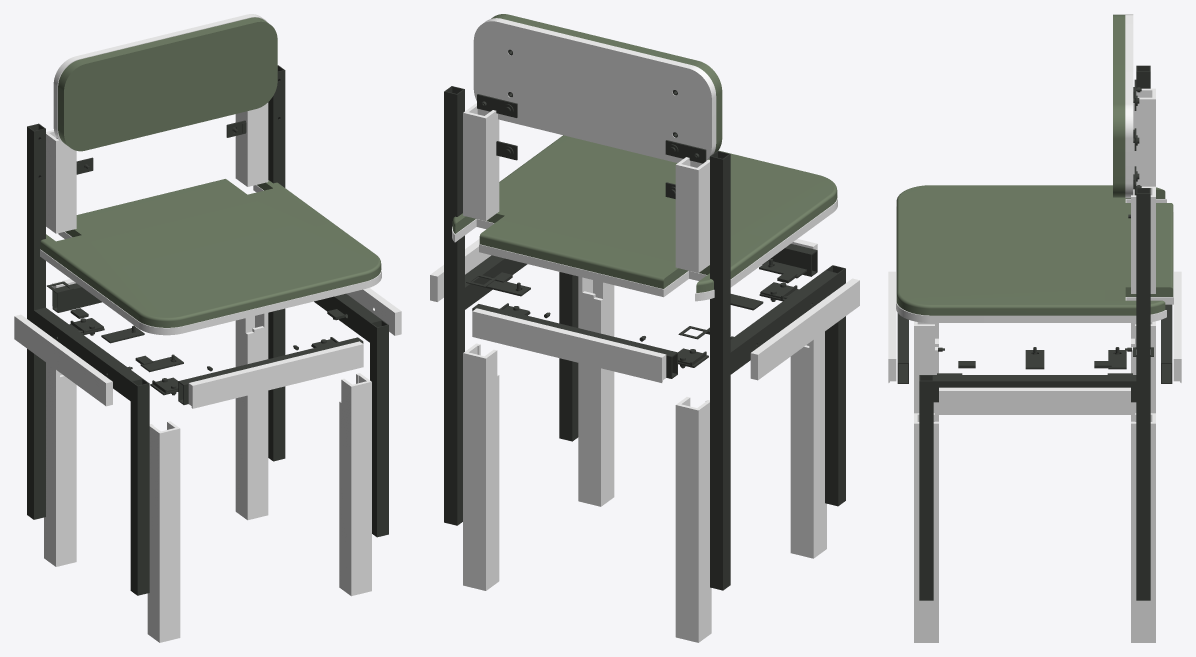
Rendered from exploded.glb.
The picture shows the model from 3 angles, left to right: view 1: azimuth 30°, elevation 25°; view 2: azimuth 150°, elevation 25°; view 3: azimuth 270°, elevation 25°; orthographic projection. The views are drawn at different scales.
Parts seen in each view (by area): view 1: seat-upholstery-envelope, back-upholstery-envelope, sleeve-1-0, sleeve-0-0, leg-0-1, sleeve-0-1, sleeve-1-1, apron-Y--1, leg-0-0, leg-1-1, leg-1-0, apron-X--1 (+9 smaller); view 2: seat-upholstery-envelope, back-carrier, leg-0-1, sleeve-1-1, sleeve-0-1, leg-1-1, sleeve-0-0, sleeve-1-0, apron-Y-1, leg-0-0, upper-sleeve-1, upper-sleeve-0 (+9 smaller); view 3: seat-upholstery-envelope, leg-1-1, apron-X-1, leg-1-0, sleeve-1-0, sleeve-1-1, side-rail-1-0, seat-carrier, back-upholstery-envelope, upper-sleeve-0, back-carrier, sleeve-0-0 (+6 smaller).
Boxes of the visible parts, x1,y1,x2,y2 form: seat-upholstery-envelope: [40, 179, 381, 327]; back-upholstery-envelope: [58, 17, 277, 151]; sleeve-1-0: [339, 373, 371, 596]; sleeve-0-0: [147, 421, 180, 642]; leg-0-1: [27, 123, 45, 519]; sleeve-0-1: [44, 362, 76, 566]; sleeve-1-1: [235, 313, 268, 520]; apron-Y--1: [188, 341, 363, 408]; leg-0-0: [130, 378, 149, 595]; leg-1-1: [268, 65, 285, 461]; leg-1-0: [370, 320, 388, 537]; apron-X--1: [14, 314, 112, 406]; seat-upholstery-envelope: [452, 135, 837, 292]; back-carrier: [473, 18, 716, 162]; leg-0-1: [710, 151, 730, 590]; sleeve-1-1: [463, 343, 499, 590]; sleeve-0-1: [675, 397, 711, 642]; leg-1-1: [444, 86, 464, 525]; sleeve-0-0: [790, 331, 826, 558]; sleeve-1-0: [578, 276, 614, 506]; apron-Y-1: [472, 308, 666, 382]; leg-0-0: [825, 265, 845, 506]; upper-sleeve-1: [463, 103, 499, 220]; upper-sleeve-0: [675, 157, 709, 272]; seat-upholstery-envelope: [896, 185, 1173, 315]; leg-1-1: [1136, 188, 1150, 600]; apron-X-1: [939, 387, 1130, 414]; leg-1-0: [919, 375, 933, 600]; sleeve-1-0: [914, 413, 938, 642]; sleeve-1-1: [1131, 413, 1155, 642]; side-rail-1-0: [933, 375, 1136, 402]; seat-carrier: [896, 198, 1173, 322]; back-upholstery-envelope: [1113, 14, 1125, 197]; upper-sleeve-0: [1133, 88, 1155, 186]; back-carrier: [1125, 14, 1133, 198]; sleeve-0-0: [914, 321, 938, 421].
Size of the model in its own units: 0.617 by 1.01 by 0.507.
